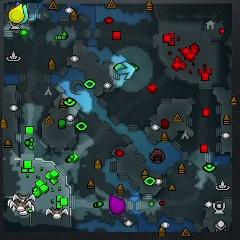p1: (16, 0, 20, 6)
p2: (20, 4, 29, 25)
p3: (109, 195, 126, 214)
p4: (9, 4, 22, 23)
x3: (118, 61, 135, 80)
